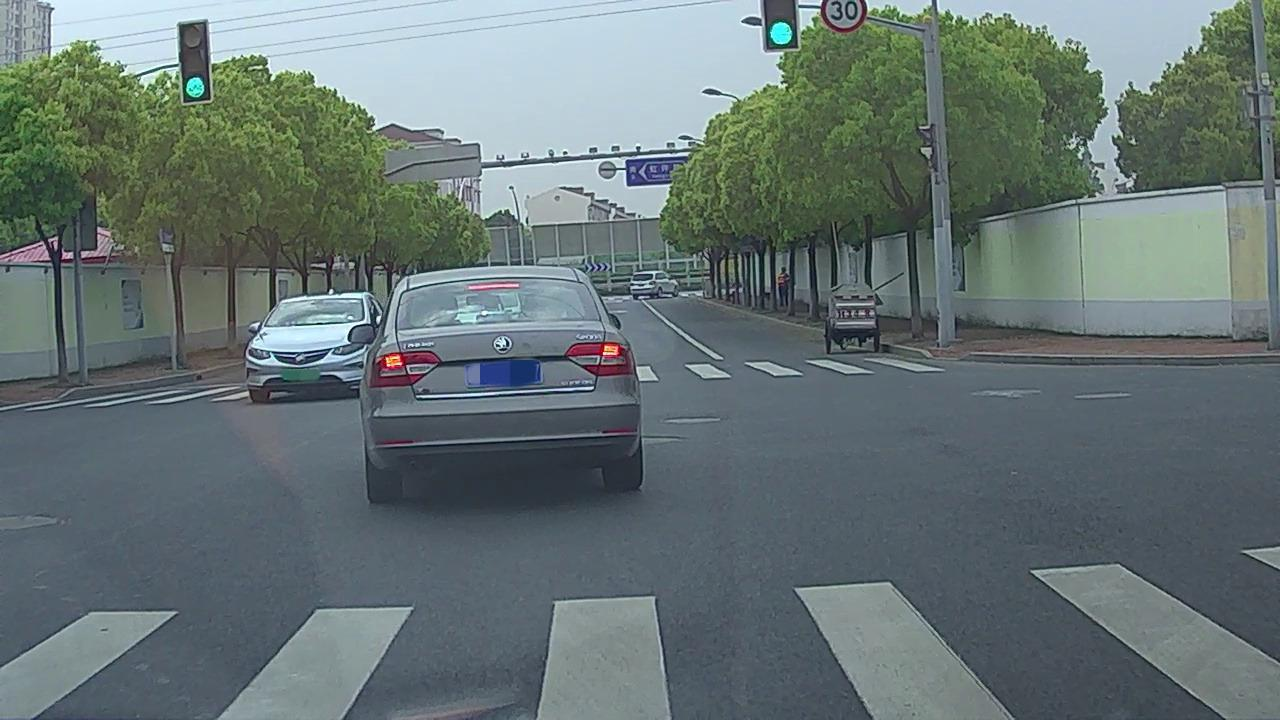traffic_light: (176, 22, 210, 101), (766, 1, 797, 45)
